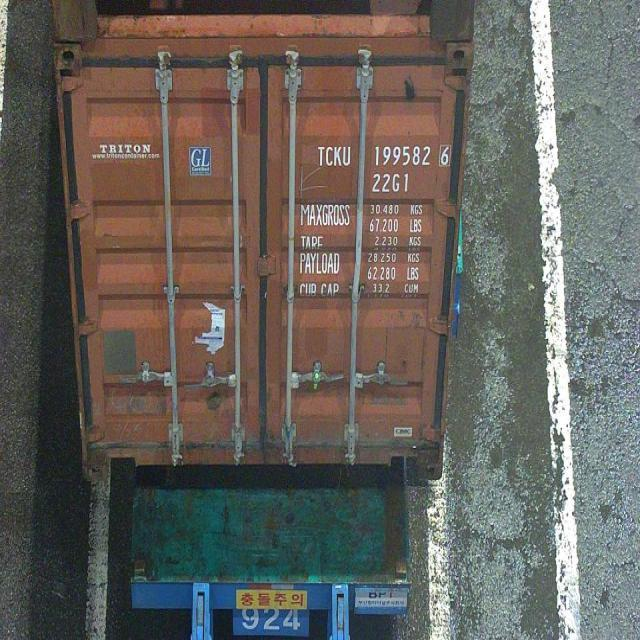ISO: (370, 172, 410, 194)
container_number: (310, 142, 452, 166)
